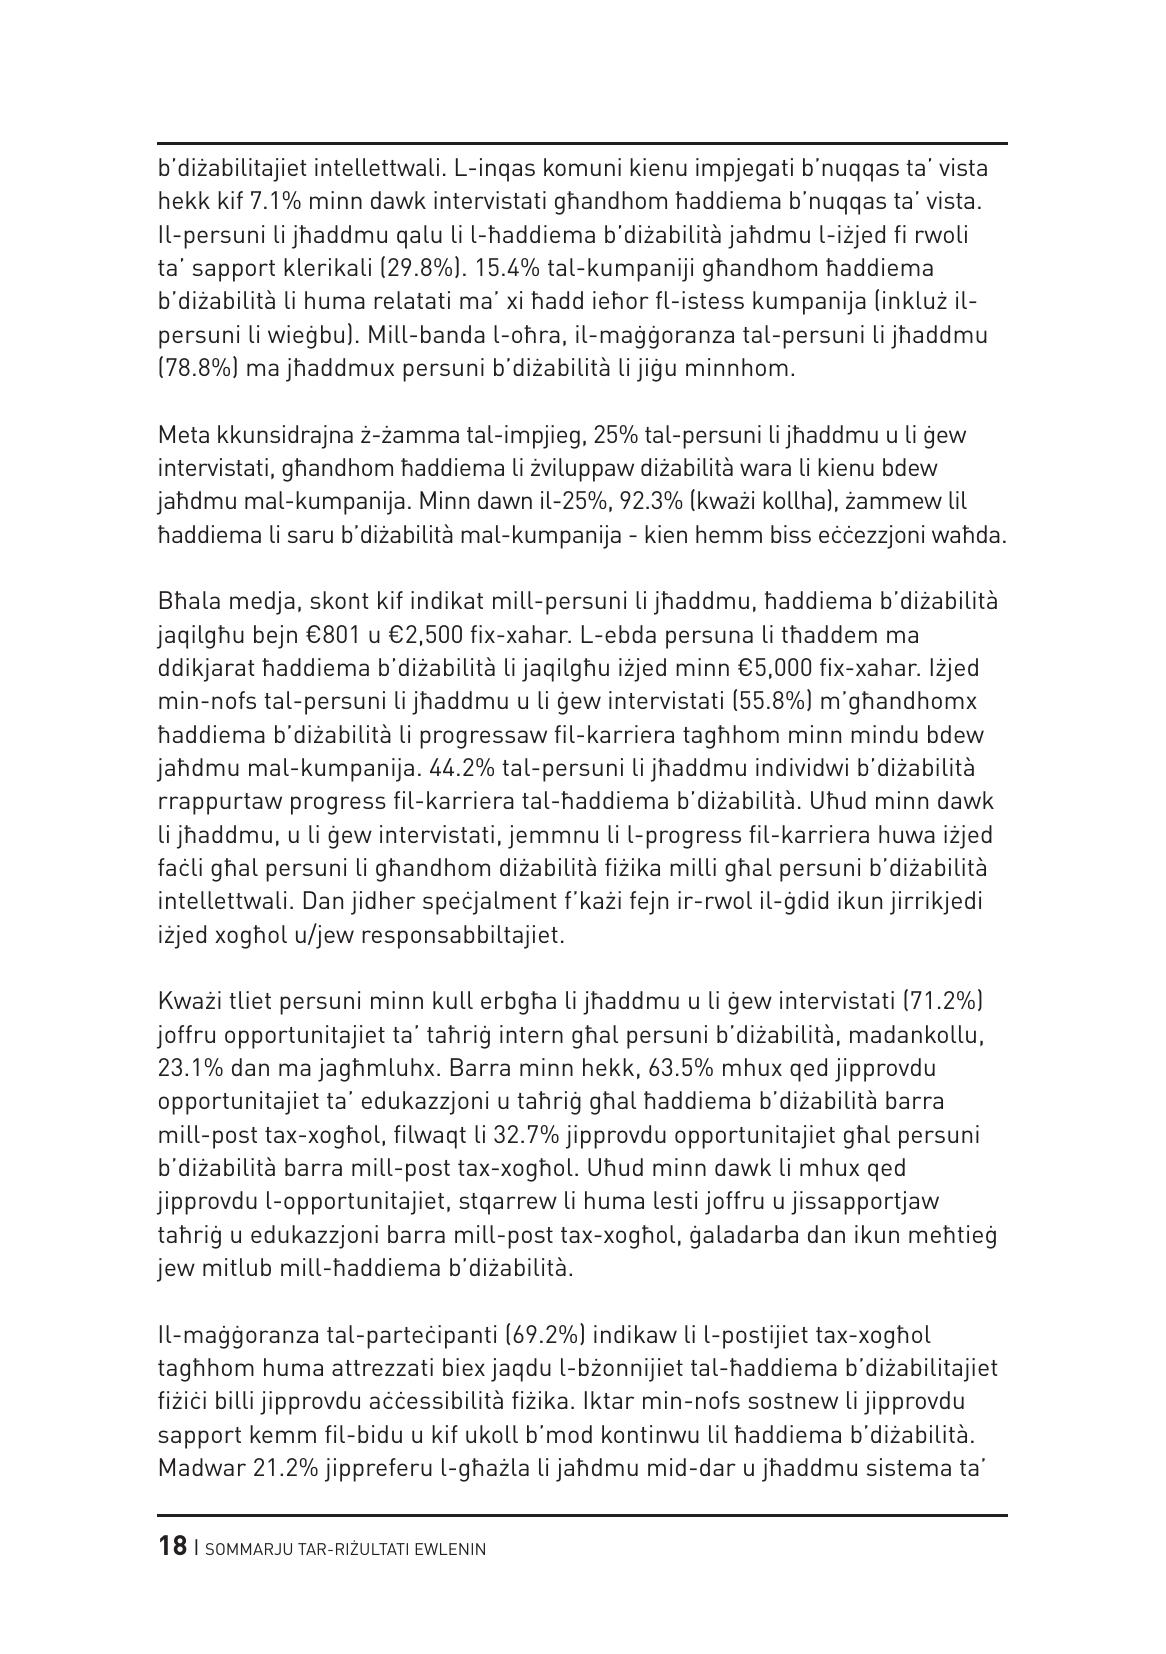text: (144, 151, 1025, 1493)
